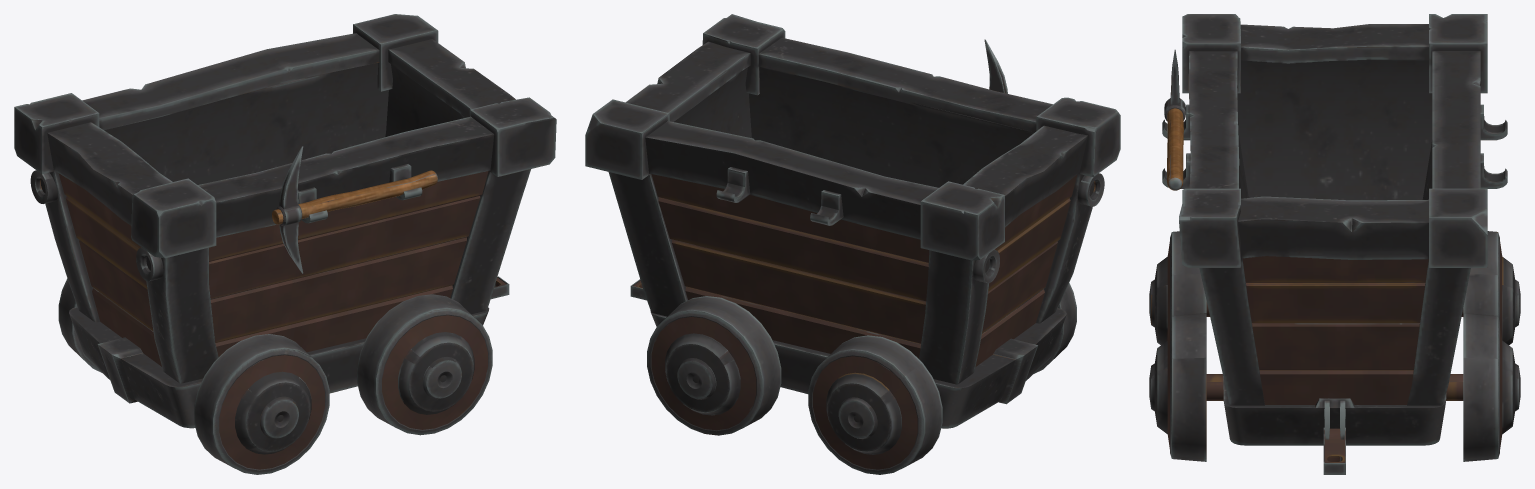
The model's file is SM_Cart_01.glb.
3 renders of one model, left to right at view 1: azimuth 30°, elevation 25°; view 2: azimuth 150°, elevation 25°; view 3: azimuth 270°, elevation 25°, orthographic. The views are drawn at different scales.
Visible parts, largest first — view 1: SM_Cart_01; view 2: SM_Cart_01; view 3: SM_Cart_01.
Part boxes in pixels (bbox=[...]): SM_Cart_01: bbox=[14, 14, 556, 474]; SM_Cart_01: bbox=[585, 14, 1120, 474]; SM_Cart_01: bbox=[1149, 14, 1520, 474].
Size of the model in its own units: 1.77 by 1.3 by 1.29.
Materials: 1 (1 with a texture image).
